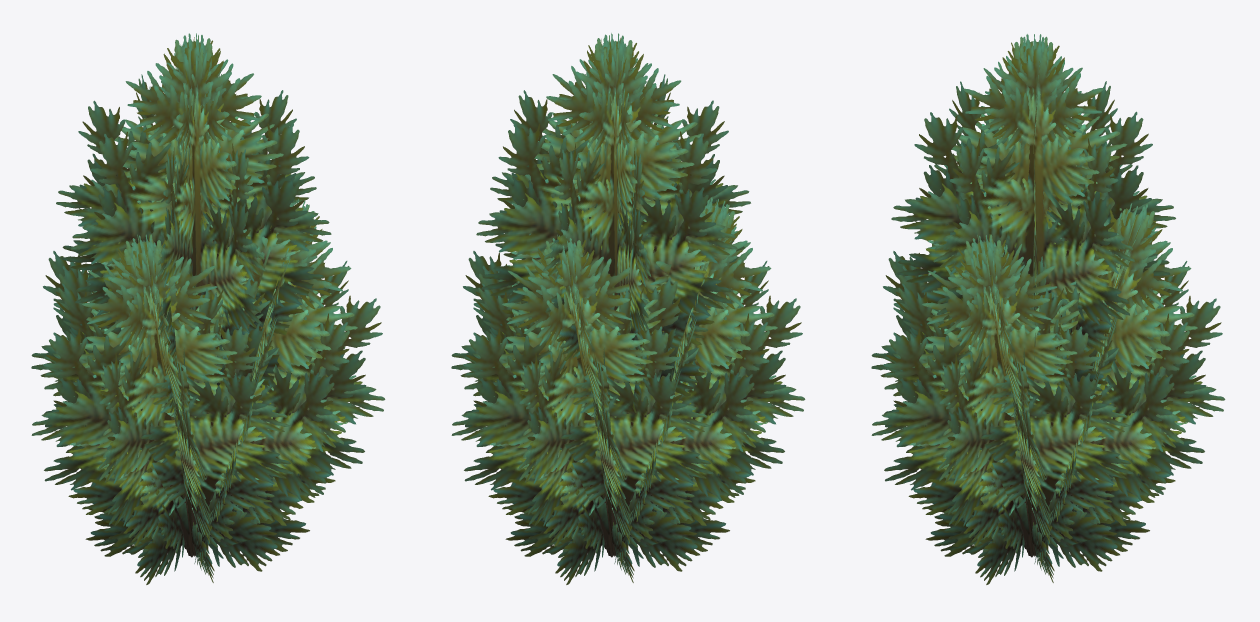
The model's file is painted-pine-big-4.glb.
3 renders of one model, left to right at view 1: azimuth 30°, elevation 25°; view 2: azimuth 150°, elevation 25°; view 3: azimuth 270°, elevation 25°, orthographic.
Bounding box in the file's own units: 9.44 × 14.43 × 9.29.
1 material, 1 textured.
